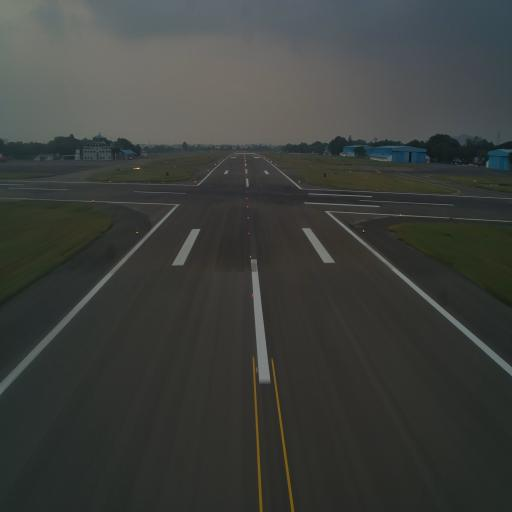on: (255, 365, 260, 376), (251, 290, 254, 298), (136, 230, 140, 236), (362, 228, 366, 234), (247, 231, 251, 236), (246, 215, 250, 220), (249, 254, 251, 259)
